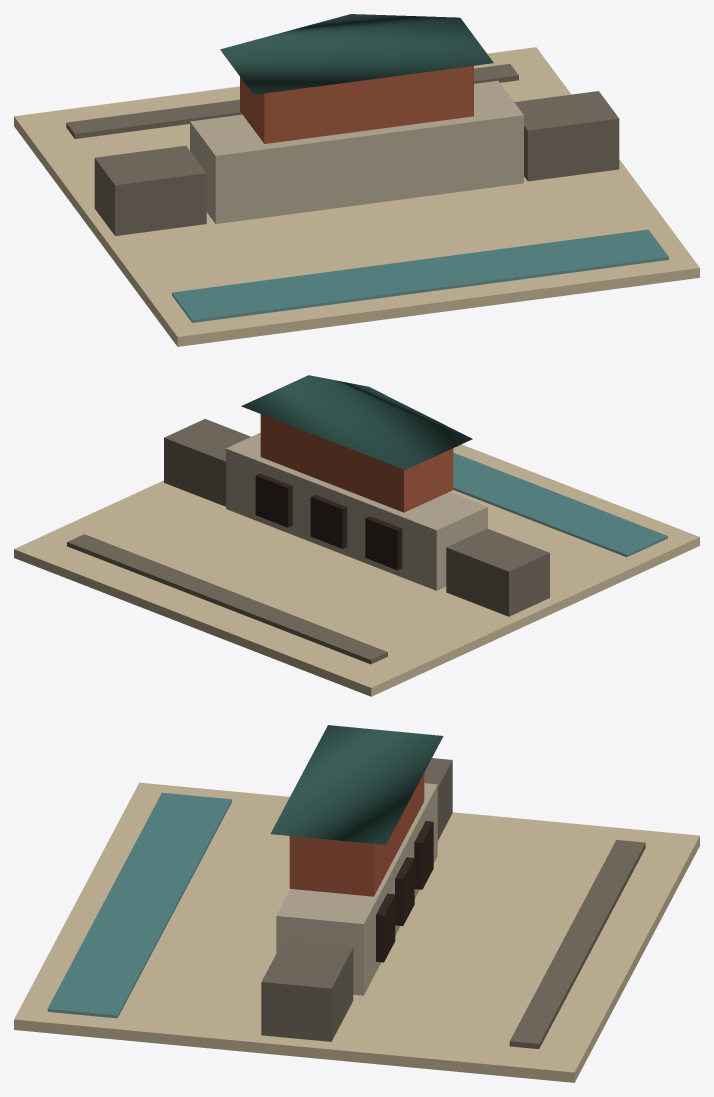
Rendered from model-medium.glb.
3 views of the same model, one above another, from view 1: azimuth 30°, elevation 25°; view 2: azimuth 150°, elevation 25°; view 3: azimuth 270°, elevation 25° (orthographic). The views are drawn at different scales.
Parts seen in each view (by area): view 1: context_site_plinth, city_gate_platform, side_wall_segment (×2), context_water_edge, gatehouse_roof, upper_gatehouse_body, front_scale_strip; view 2: context_site_plinth, city_gate_platform, side_wall_segment (×2), gatehouse_roof, upper_gatehouse_body, context_water_edge, front_scale_strip, arched_gate_opening (×3); view 3: context_site_plinth, context_water_edge, gatehouse_roof, side_wall_segment (×2), city_gate_platform, front_scale_strip, upper_gatehouse_body, arched_gate_opening (×3).
Part boxes in pixels (x1,y1,x2,y2): context_site_plinth: [14, 47, 699, 346]; city_gate_platform: [190, 80, 523, 223]; side_wall_segment (×2): [94, 91, 619, 235]; context_water_edge: [172, 229, 668, 322]; gatehouse_roof: [220, 14, 493, 94]; upper_gatehouse_body: [240, 66, 473, 143]; front_scale_strip: [66, 64, 518, 138]; context_site_plinth: [14, 444, 699, 696]; city_gate_platform: [226, 432, 487, 590]; side_wall_segment (×2): [164, 419, 549, 616]; gatehouse_roof: [241, 375, 472, 469]; upper_gatehouse_body: [260, 414, 453, 512]; context_water_edge: [453, 453, 667, 557]; front_scale_strip: [67, 534, 387, 664]; arched_gate_opening (×3): [255, 473, 402, 570]; context_site_plinth: [14, 782, 699, 1082]; context_water_edge: [47, 792, 231, 1018]; gatehouse_roof: [270, 725, 443, 844]; side_wall_segment (×2): [261, 758, 452, 1041]; city_gate_platform: [276, 783, 437, 995]; front_scale_strip: [509, 840, 645, 1048]; upper_gatehouse_body: [289, 773, 424, 896]; arched_gate_opening (×3): [376, 821, 433, 962].
Bounding box in the file's own units: 9.55 × 2.9 × 9.55.
